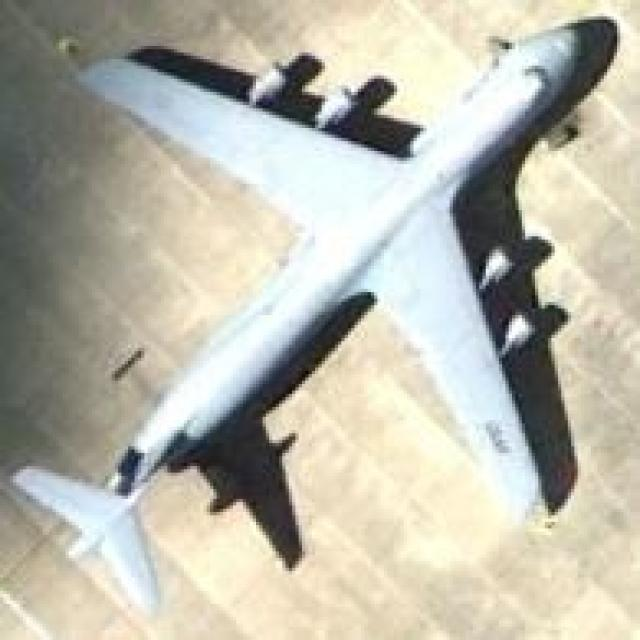C-5_TopDown: (5, 12, 620, 616)
